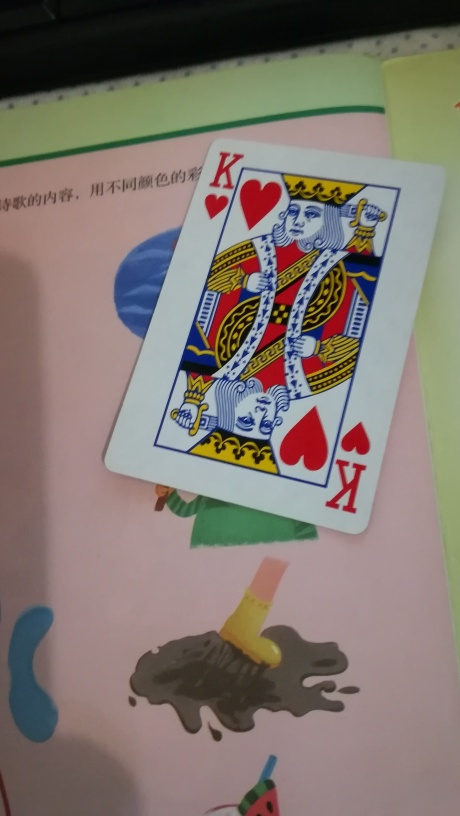hx k: (105, 132, 450, 549)
